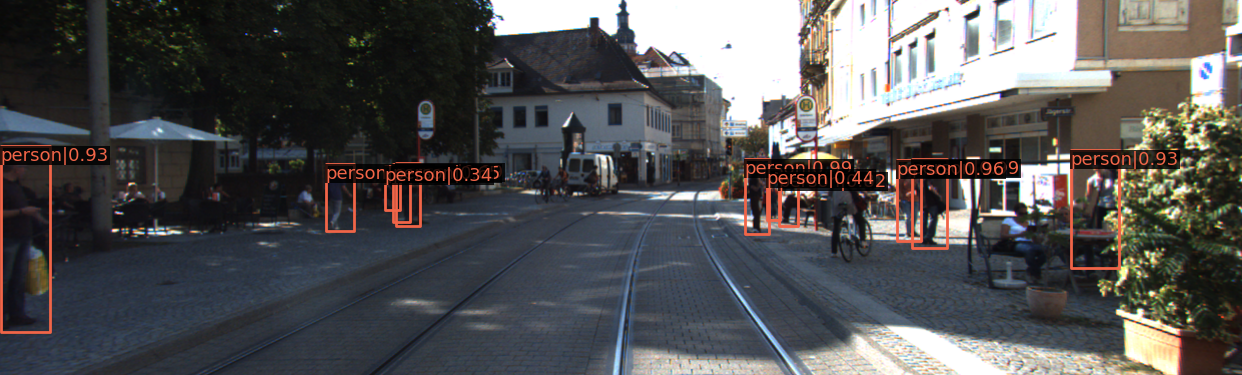person: (1, 149, 69, 327), (920, 162, 949, 247), (318, 165, 351, 233), (745, 156, 766, 235)
